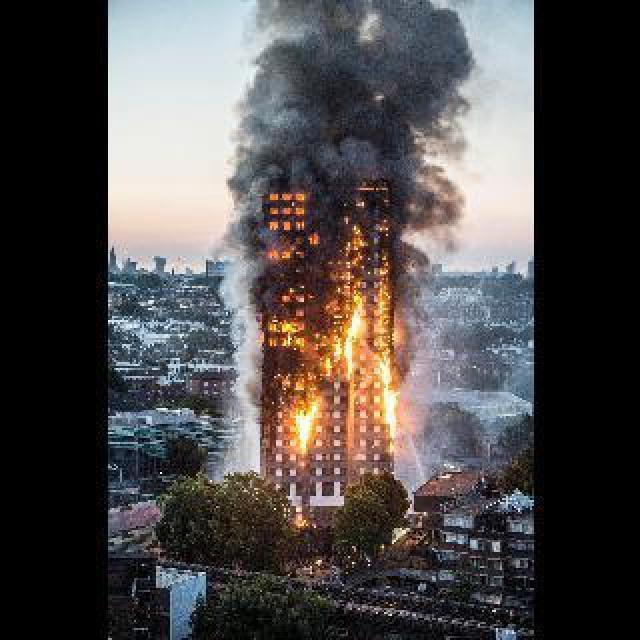Fire: (341, 304, 367, 376), (380, 362, 400, 434), (296, 404, 320, 452)
Smoke: (228, 4, 466, 231), (214, 234, 259, 436)
